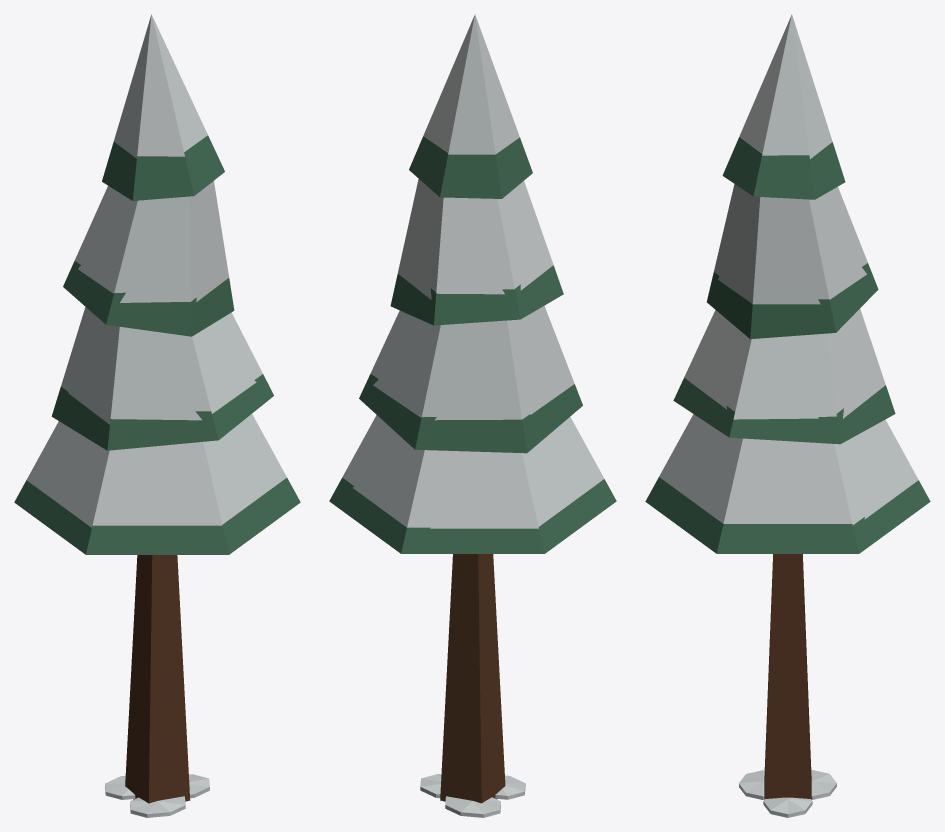
The model's file is tree_pineTallC_winter.glb.
The picture shows the model from 3 angles, left to right: view 1: azimuth 30°, elevation 25°; view 2: azimuth 150°, elevation 25°; view 3: azimuth 270°, elevation 25°; orthographic projection.
Visible parts, largest first — view 1: geometry; view 2: geometry; view 3: geometry.
Boxes of the visible parts, left/top/right/bottom form: geometry: left=14, top=14, right=300, bottom=817; geometry: left=329, top=14, right=616, bottom=817; geometry: left=645, top=14, right=930, bottom=817.
Bounding box in the file's own units: 0.4804 × 1.67 × 0.5547.
